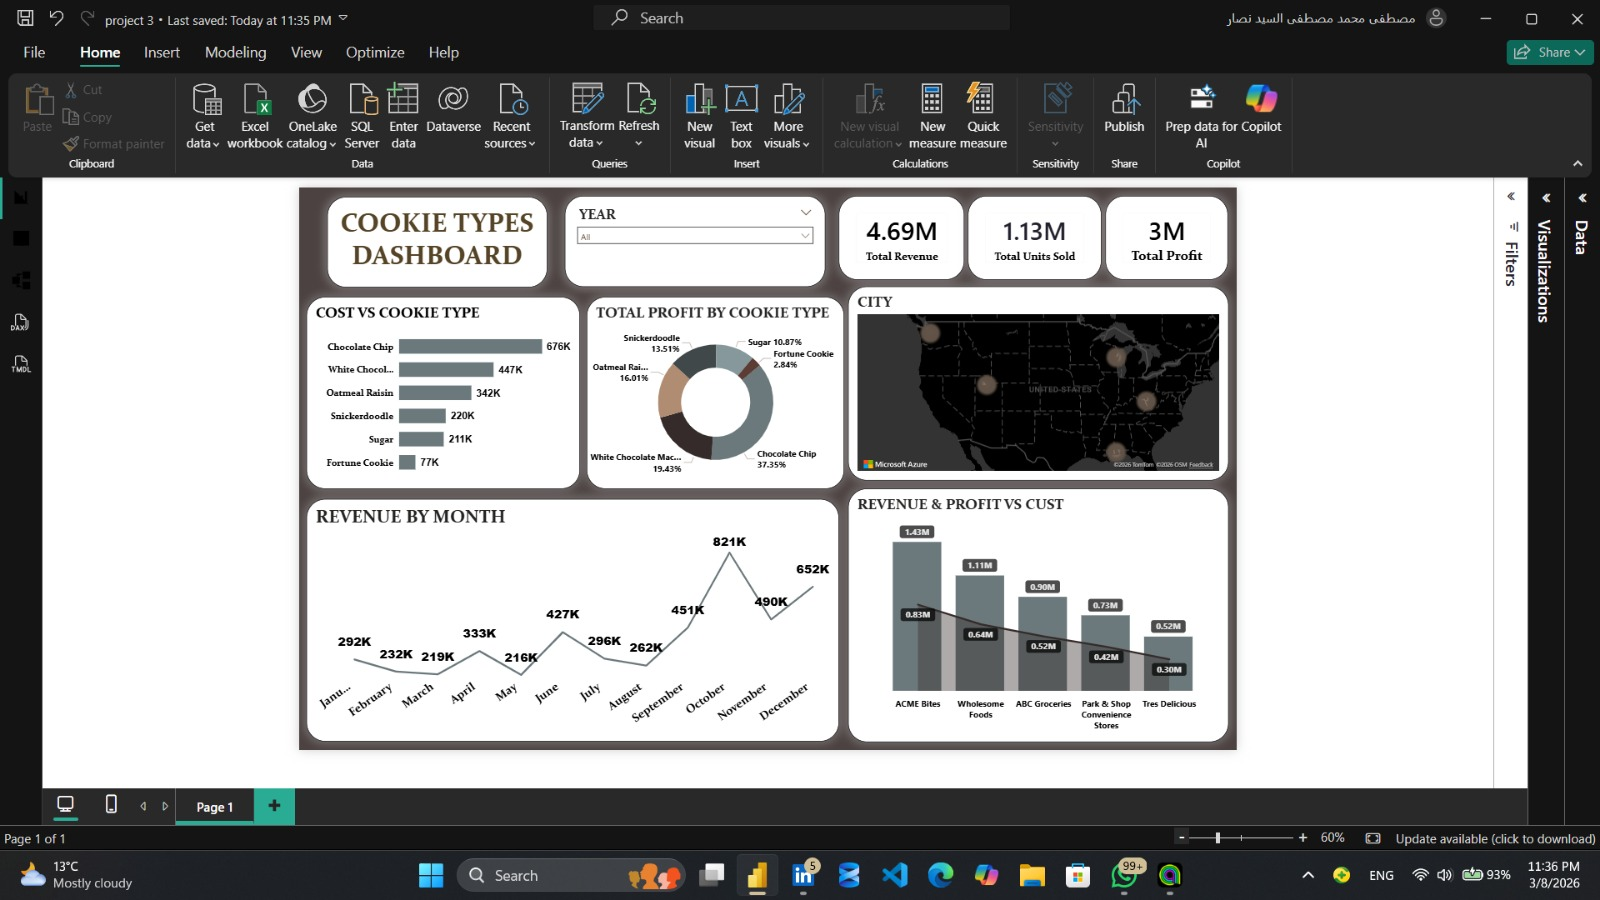

The dashboard page shown, as its layout file describes it:
{"tool":"powerbi","page":{"name":"Page 1","canvas":[1500,900],"ordinal":0},"visuals":[{"type":"clusteredBarChart","title":"COST VS COOKIE TYPE","fields":{"Category":["Cookie Types.Cookie Type"],"Y":["Sum(Orders.Cost)"]},"box":[12.5,175,437.5,307.1],"z":0},{"type":"azureMap","title":"CITY","fields":{"Category":["Customers.City"]},"box":[878.6,158.9,608.9,310.7],"z":1000},{"type":"cardVisual","fields":{"Data":["Orders.Total Profit"]},"box":[1290.5,13.7,195.8,134.7],"z":2000},{"type":"cardVisual","fields":{"Data":["Orders.Total Revenue"]},"box":[863.2,13.7,201.1,134.7],"z":3000},{"type":"cardVisual","fields":{"Data":["Orders.Total Units Sold"]},"box":[1069.5,13.7,213.7,134.7],"z":4000},{"type":"lineChart","title":"REVENUE BY MONTH","fields":{"Y":["Sum(Orders.Revenue)"],"Category":["Orders.Date.Variation.Date Hierarchy.Month"]},"box":[11.7,498.3,851.7,388.3],"z":5000},{"type":"lineClusteredColumnComboChart","title":"REVENUE & PROFIT VS CUST","fields":{"Category":["Customers.Name"],"Y":["Sum(Orders.Revenue)"],"Y2":["Orders.Total Profit"]},"box":[878.6,482.1,608.9,405.4],"z":6000},{"type":"donutChart","title":"TOTAL PROFIT BY COOKIE TYPE","fields":{"Y":["Orders.Total Profit"],"Category":["Cookie Types.Cookie Type"]},"box":[459.3,175.2,412.4,307.1],"z":7000},{"type":"slicer","fields":{"Values":["Orders.Date.Variation.Date Hierarchy.Year"]},"box":[425,14.1,417.2,145.3],"z":8000},{"type":"textbox","box":[44.6,14.3,351.8,144.6],"z":9000}]}

Visuals, with their boxes on the page's 1500x900 design canvas (x1, y1, x2, y2). These are canvas units, not pixel positions in the 1600x900 screenshot, which may show the page scaled, cropped or inside an application window:
"COST VS COOKIE TYPE" clusteredBarChart: bbox=(12, 175, 450, 482)
"CITY" azureMap: bbox=(879, 159, 1488, 470)
cardVisual - Orders.Total Profit: bbox=(1290, 14, 1486, 148)
cardVisual - Orders.Total Revenue: bbox=(863, 14, 1064, 148)
cardVisual - Orders.Total Units Sold: bbox=(1070, 14, 1283, 148)
"REVENUE BY MONTH" lineChart: bbox=(12, 498, 863, 887)
"REVENUE & PROFIT VS CUST" lineClusteredColumnComboChart: bbox=(879, 482, 1488, 888)
"TOTAL PROFIT BY COOKIE TYPE" donutChart: bbox=(459, 175, 872, 482)
slicer - Orders.Date.Variation.Date Hierarchy.Year: bbox=(425, 14, 842, 159)
textbox: bbox=(45, 14, 396, 159)
